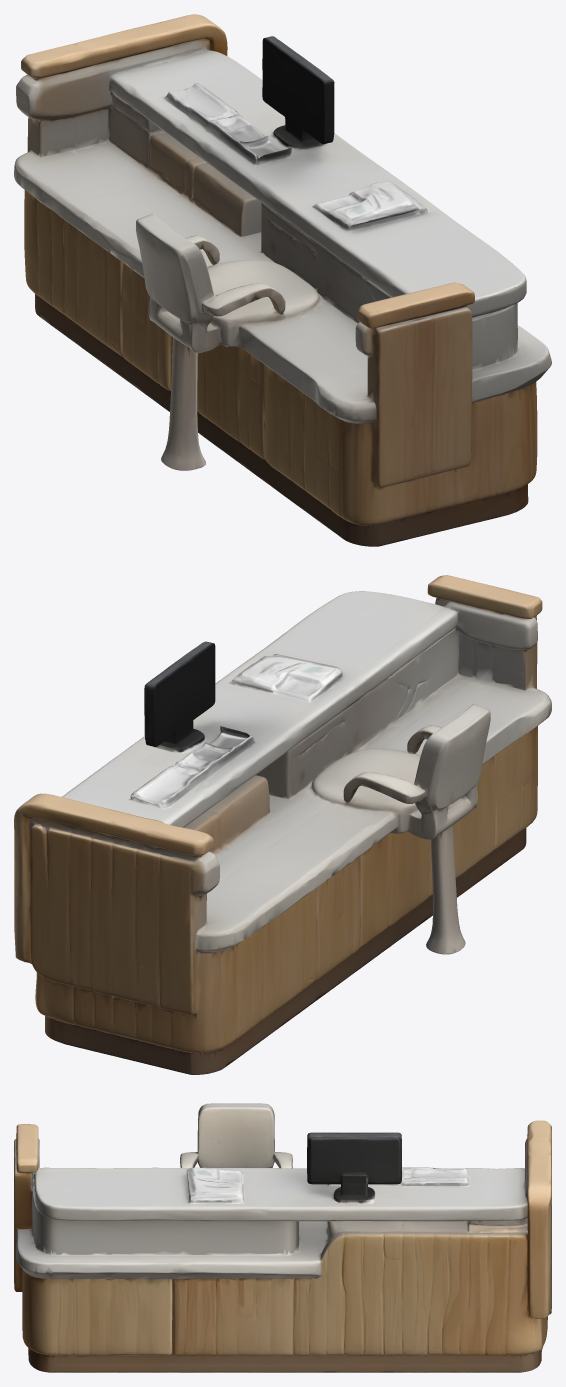
The model's file is desk.glb.
3 renders of one model, top to bottom at view 1: azimuth 30°, elevation 25°; view 2: azimuth 150°, elevation 25°; view 3: azimuth 270°, elevation 25°, orthographic. The views are drawn at different scales.
Visible parts, largest first — view 1: tripo_node_bc29b813-bd67-418b-bcab-876d36b1970f; view 2: tripo_node_bc29b813-bd67-418b-bcab-876d36b1970f; view 3: tripo_node_bc29b813-bd67-418b-bcab-876d36b1970f.
Boxes of the visible parts, box(x1,y1,x2,y2) form: tripo_node_bc29b813-bd67-418b-bcab-876d36b1970f: box(14, 14, 551, 546); tripo_node_bc29b813-bd67-418b-bcab-876d36b1970f: box(14, 575, 551, 1074); tripo_node_bc29b813-bd67-418b-bcab-876d36b1970f: box(14, 1103, 551, 1372).
Size of the model in its own units: 0.4386 by 0.468 by 1.
Materials: 1 (1 with a texture image).
